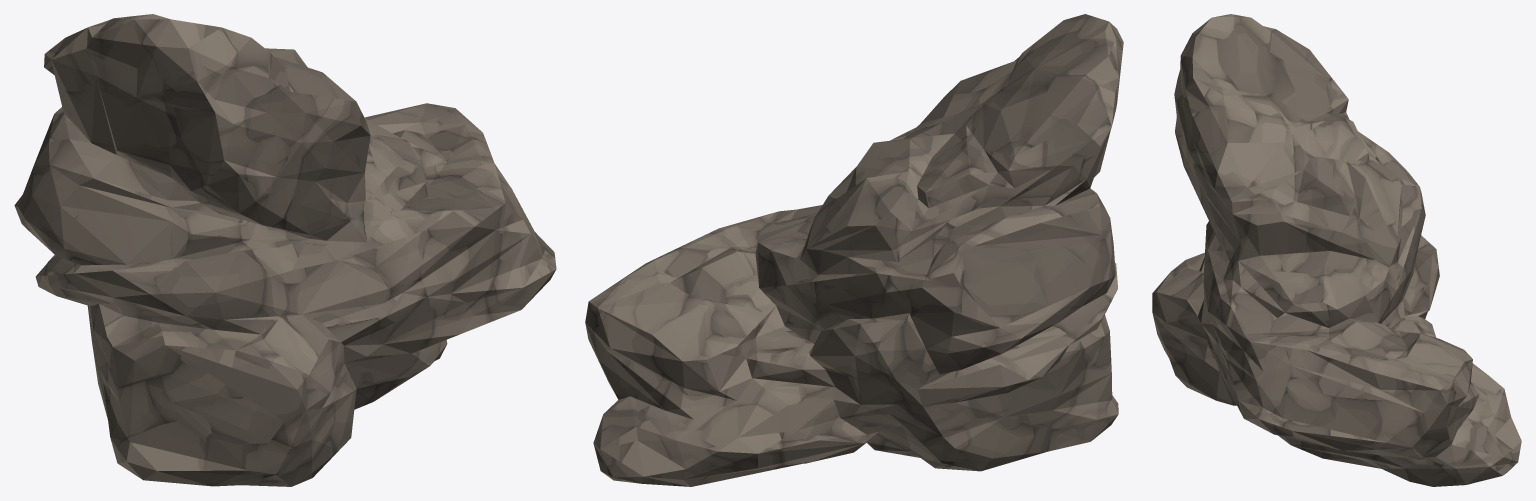
Rendered from source.gltf.
3 views of the same model, side by side, from view 1: azimuth 30°, elevation 25°; view 2: azimuth 150°, elevation 25°; view 3: azimuth 270°, elevation 25° (orthographic). The views are drawn at different scales.
Visible parts, largest first — view 1: SM_Rock_Cluster_Large_03; view 2: SM_Rock_Cluster_Large_03; view 3: SM_Rock_Cluster_Large_03.
Boxes of the visible parts, box(x1,y1,x2,y2) form: SM_Rock_Cluster_Large_03: box(14, 14, 556, 486); SM_Rock_Cluster_Large_03: box(585, 14, 1123, 486); SM_Rock_Cluster_Large_03: box(1152, 14, 1521, 486).
Size of the model in its own units: 15.55 by 13.67 by 13.47.
1 material, 1 textured.
